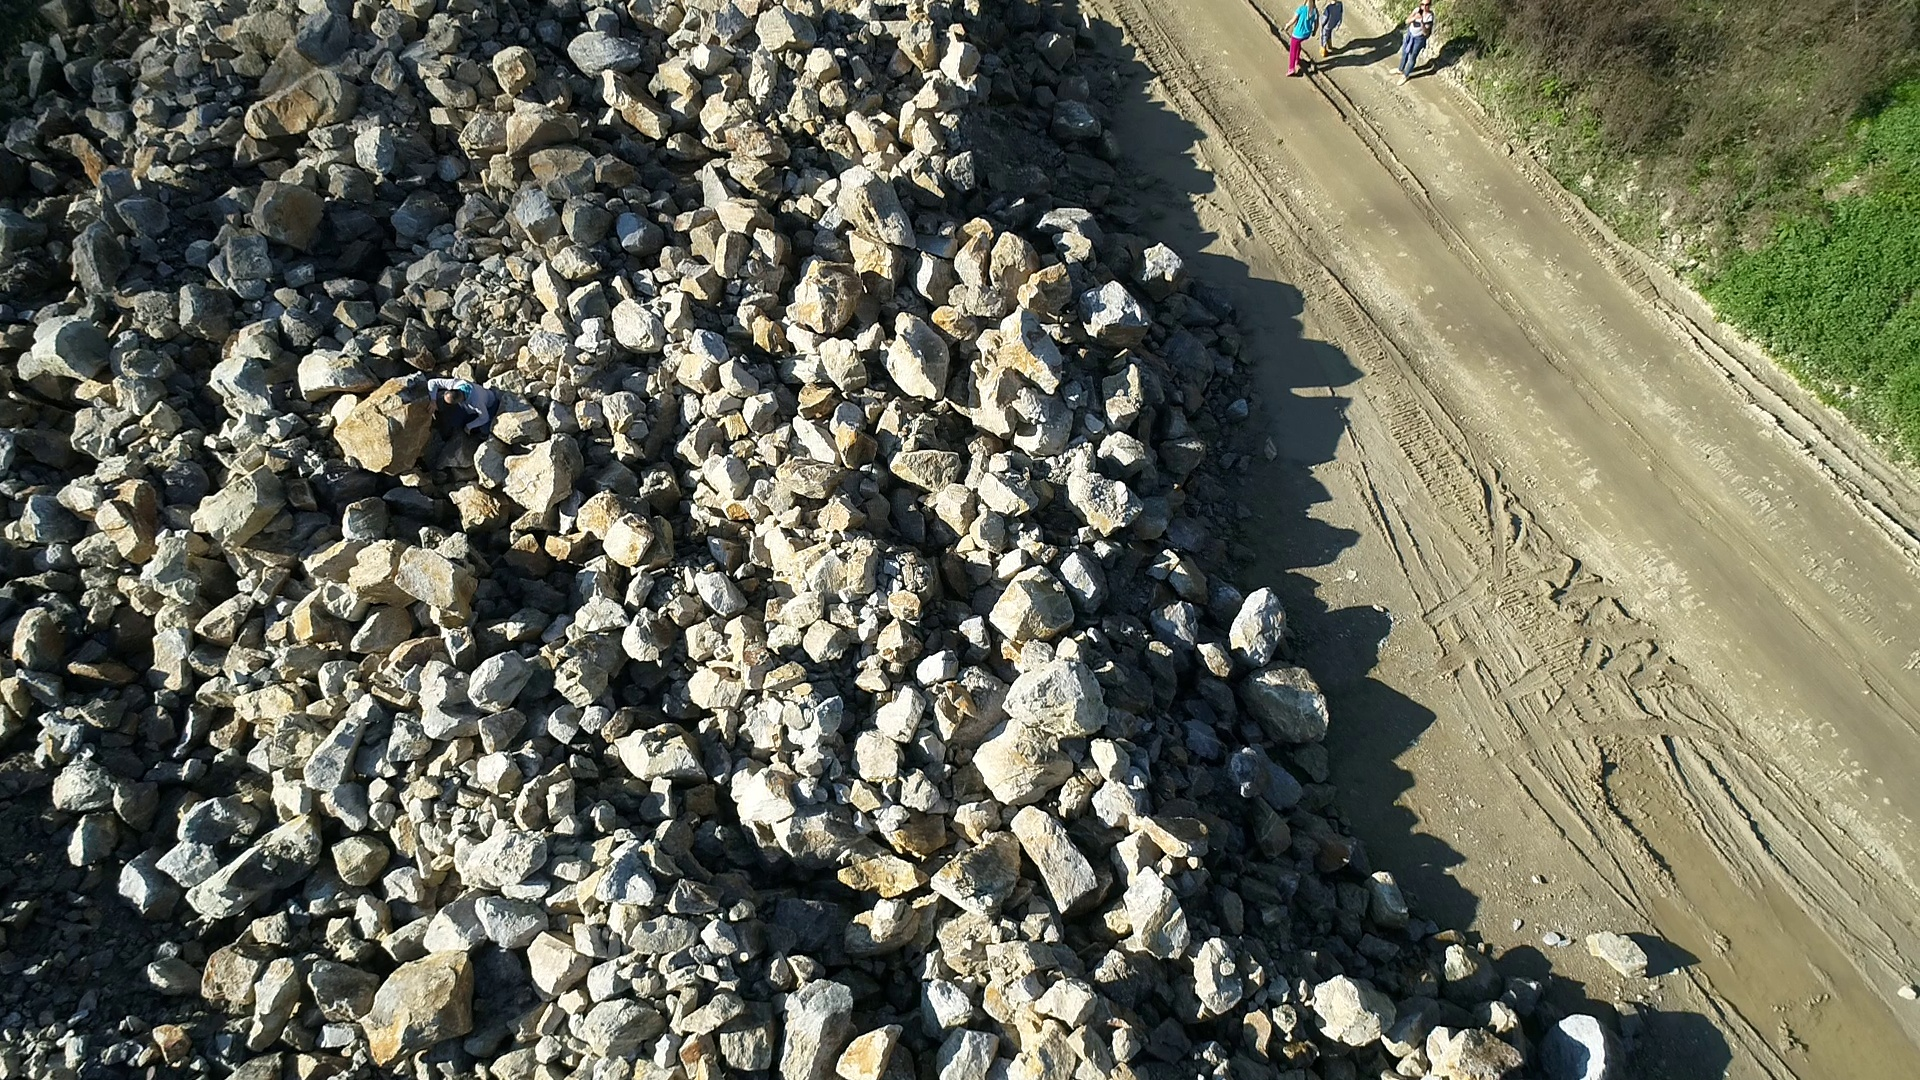person: (425, 376, 497, 435), (1388, 1, 1433, 86), (1286, 1, 1319, 76), (1319, 1, 1344, 56)
